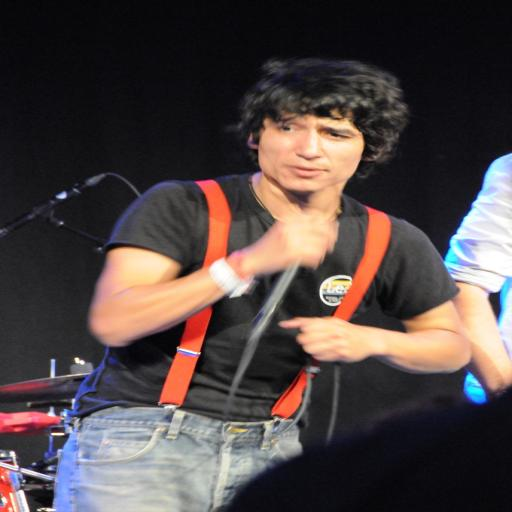Person: (70, 17, 427, 503)
no_gloves: (256, 310, 354, 370), (250, 200, 314, 284)
no_goggle: (258, 116, 332, 150)
no_helmet: (225, 42, 366, 146)
none: (130, 155, 393, 453)
